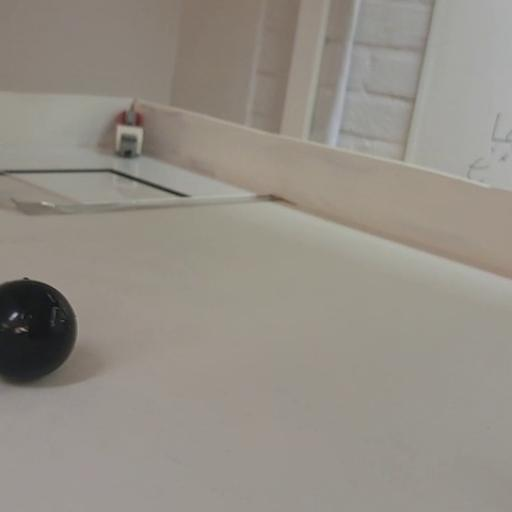dead: (0, 277, 76, 381)
